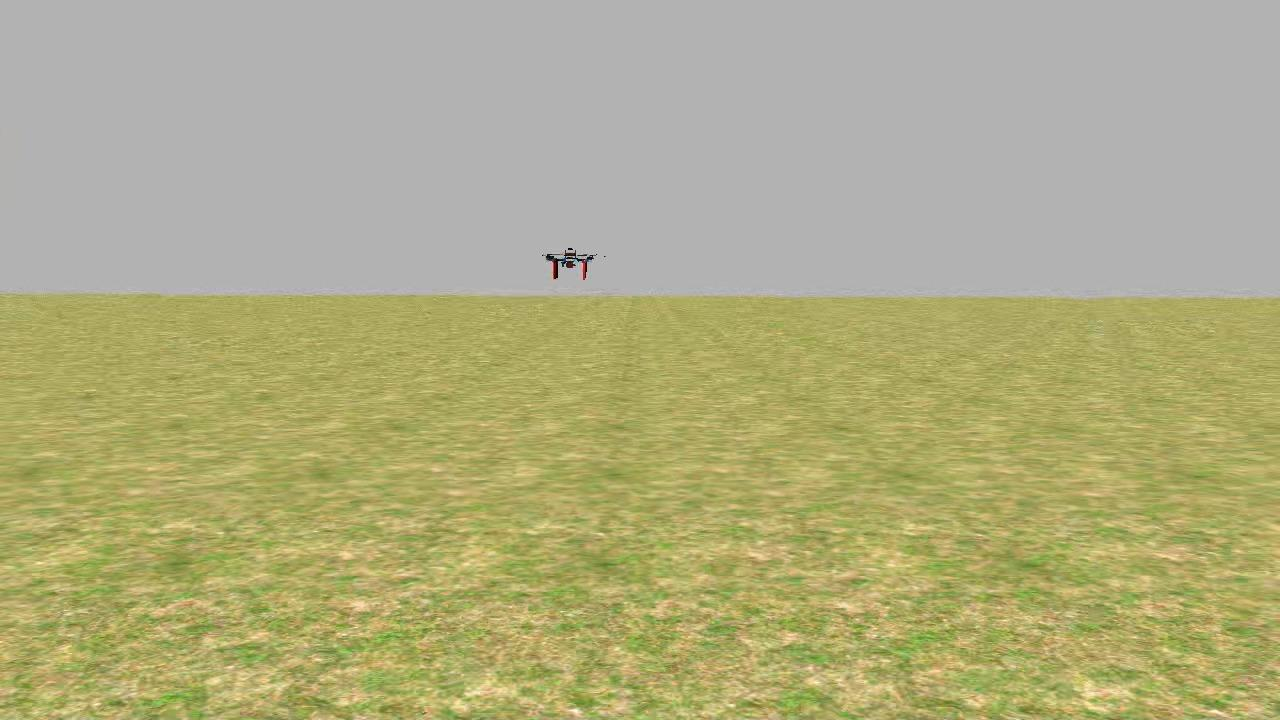UAV: (536, 234, 600, 286)
